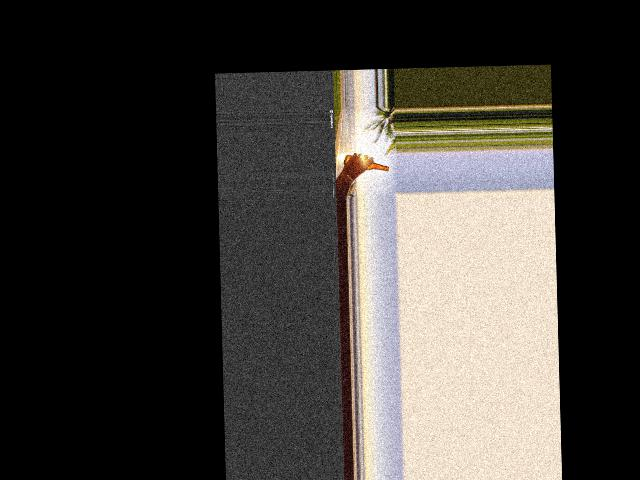beer: (343, 154, 388, 173)
